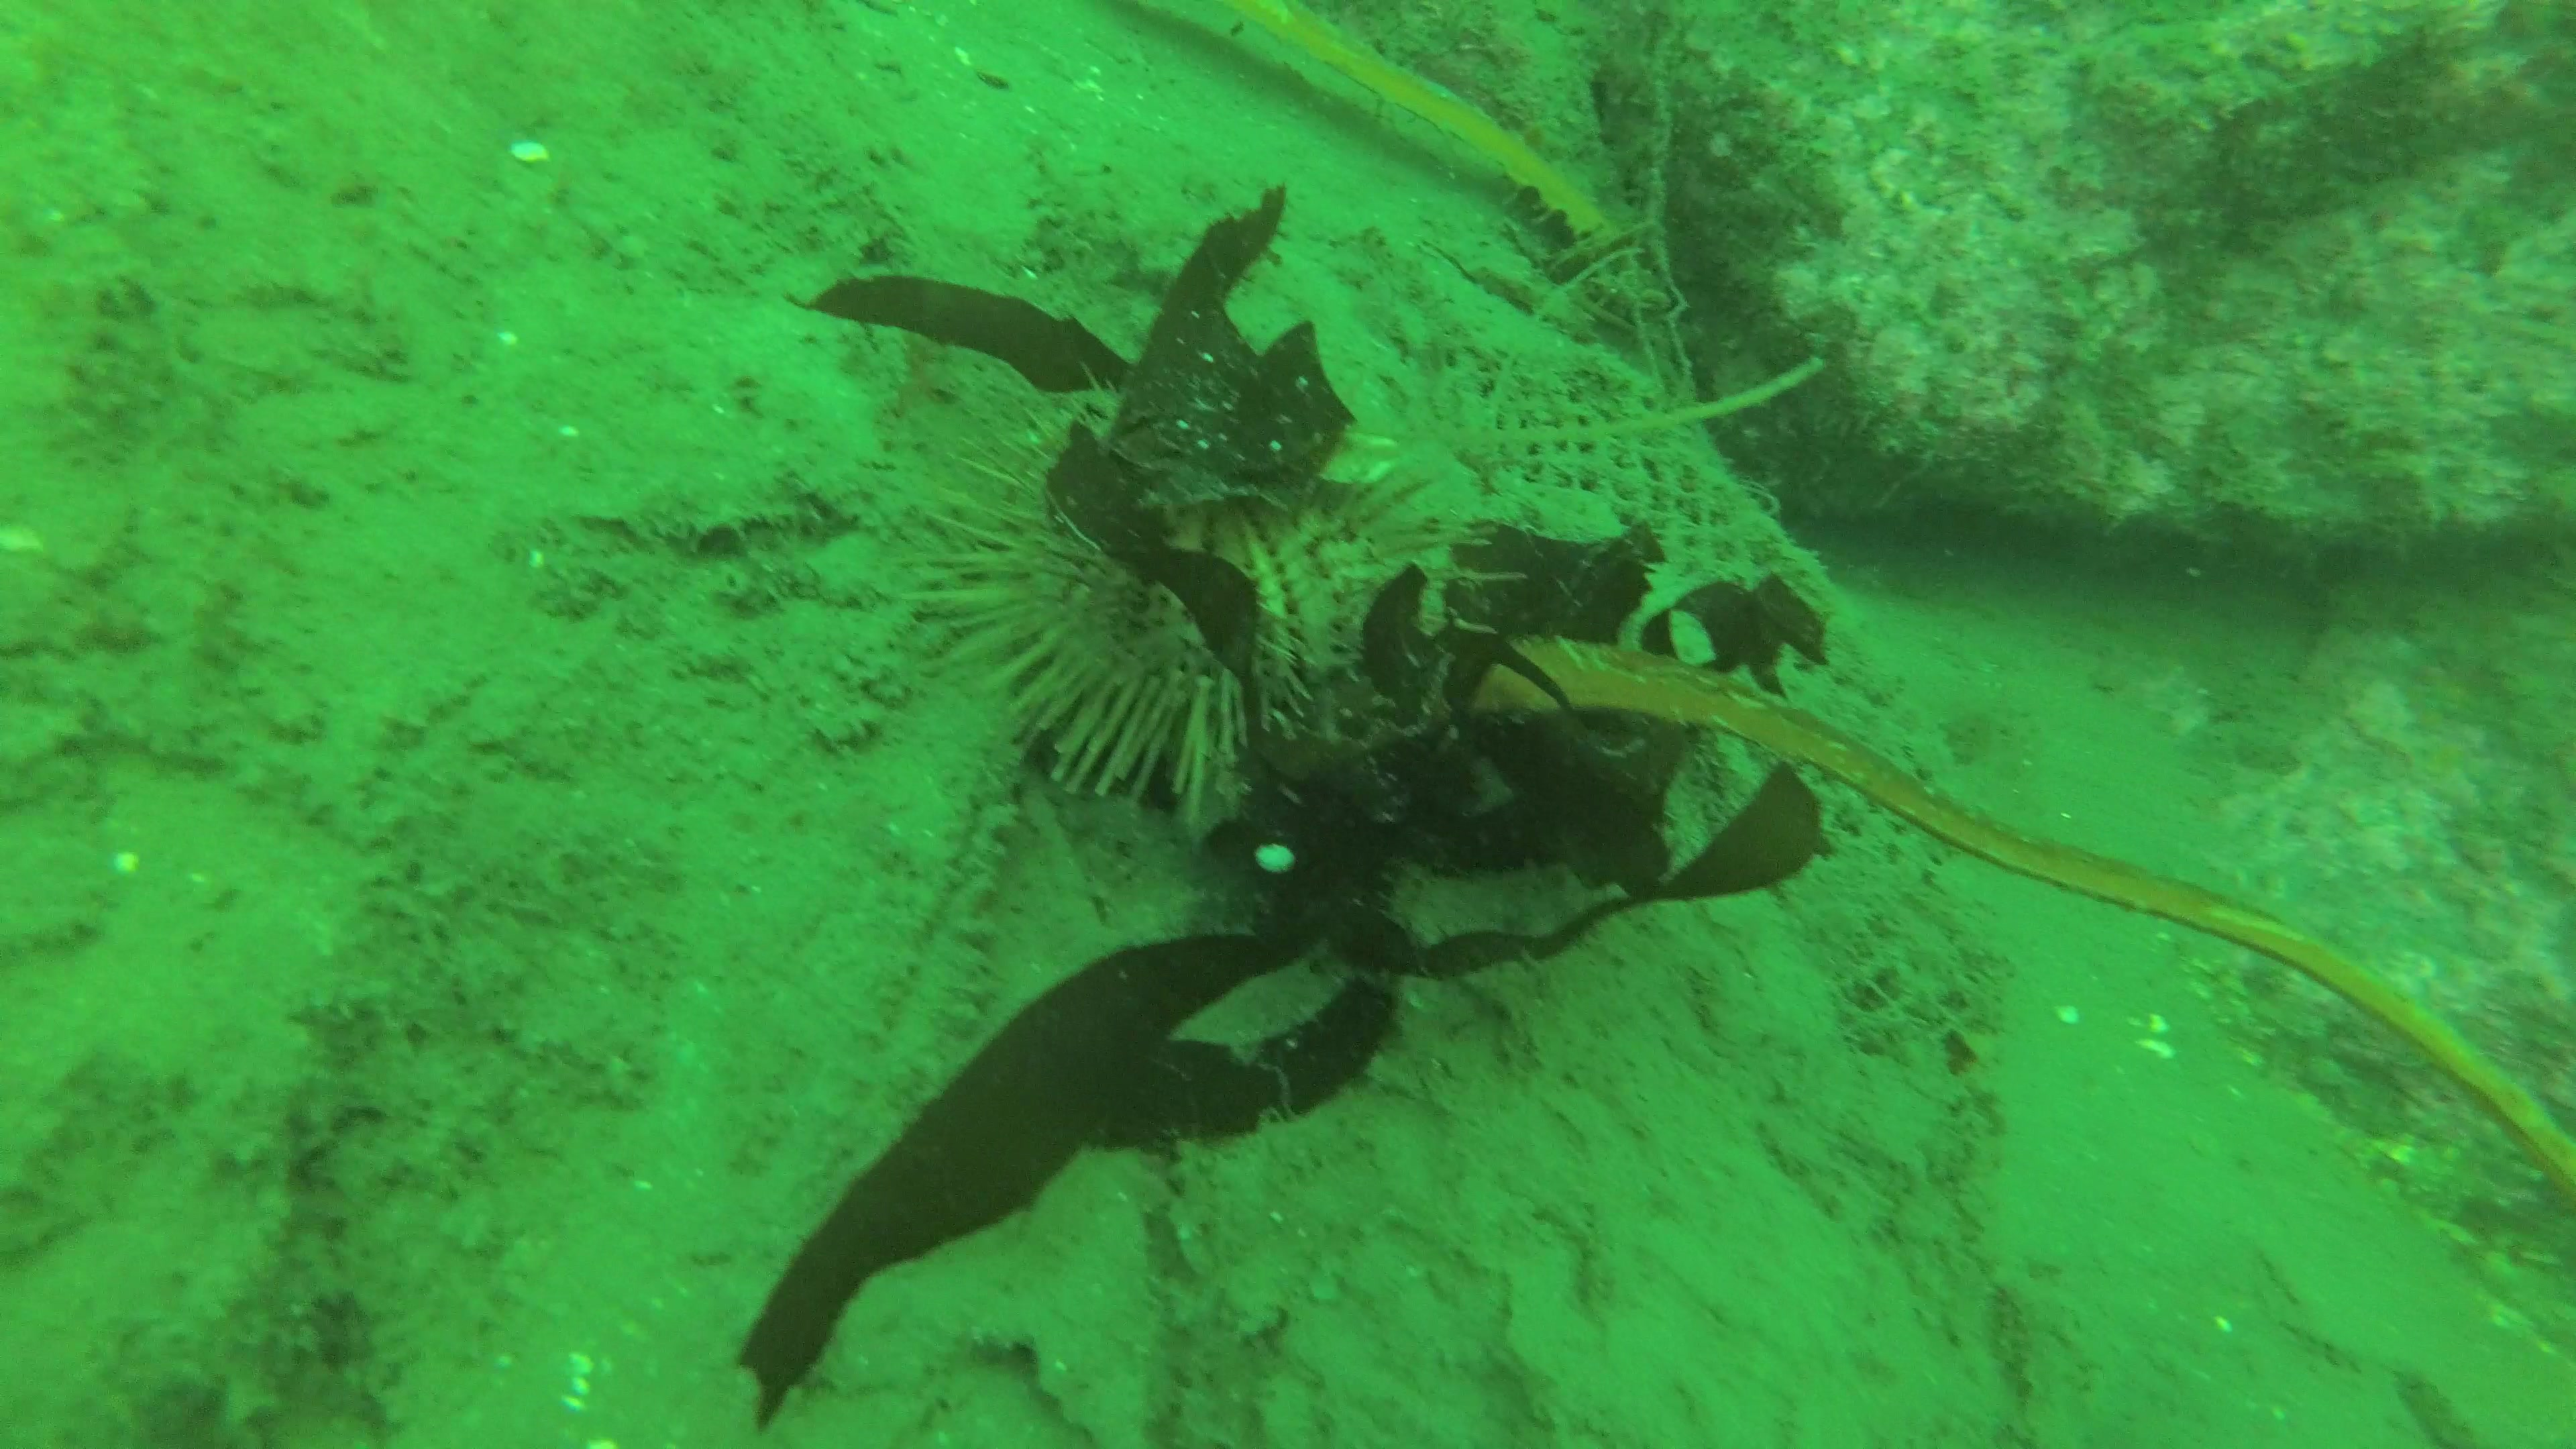echinus: (909, 389, 1523, 796)
